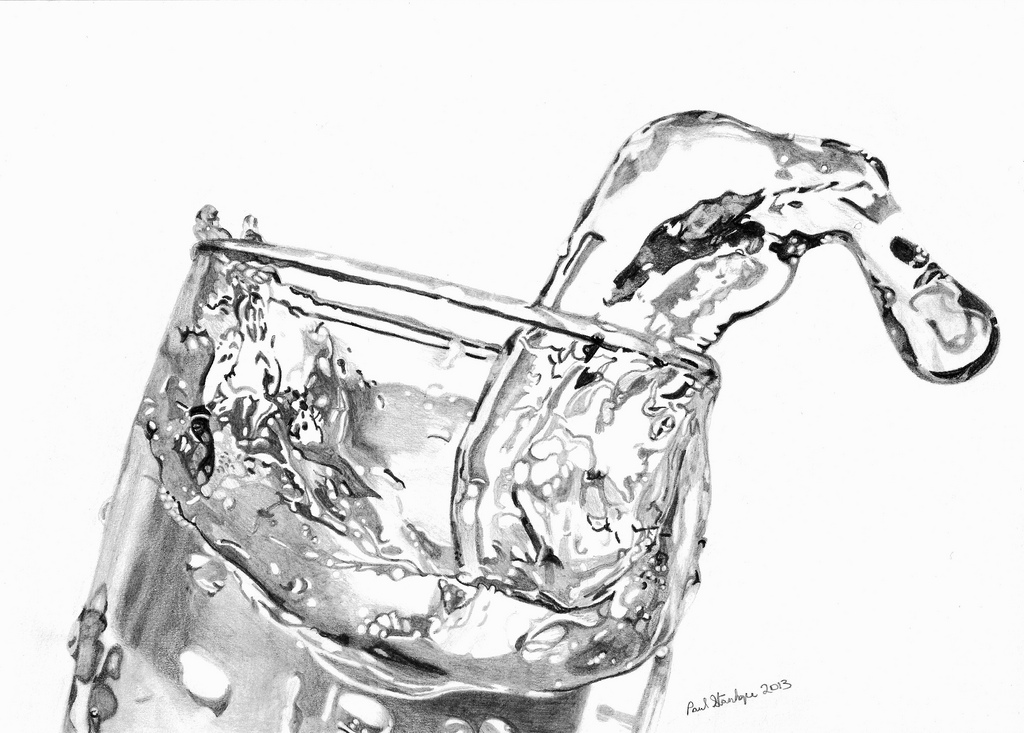glass of water: (155, 224, 672, 733)
